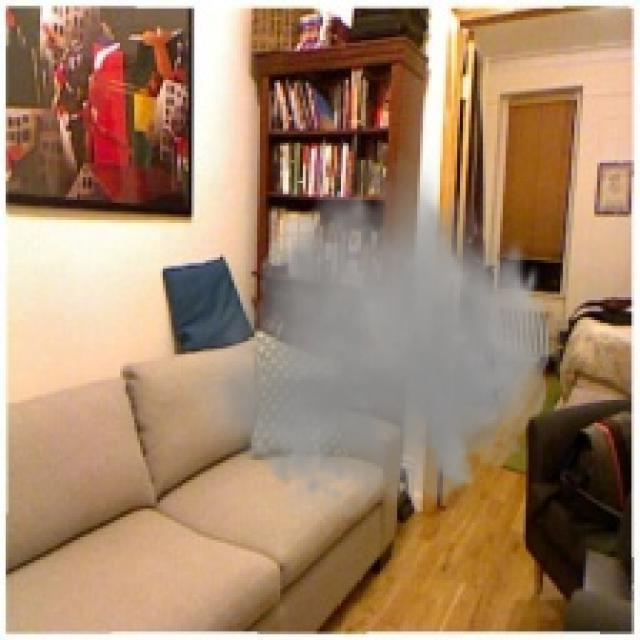Smoke: (185, 142, 560, 538)
